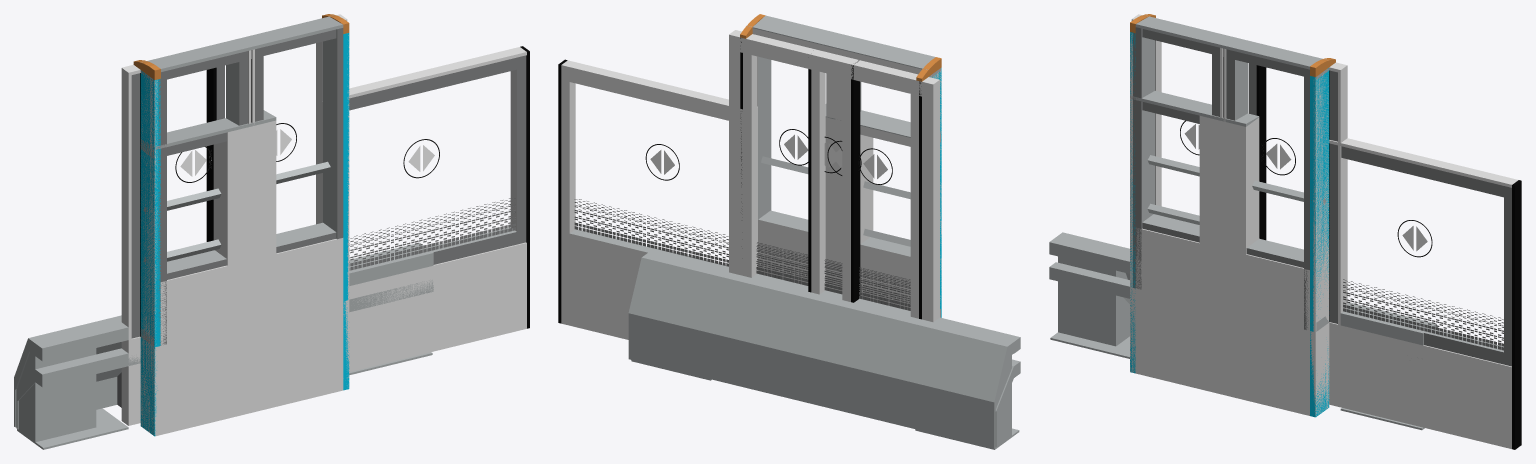
Rendered from mtr_screendoor_bg_2.obj.
3 renders of one model, left to right at view 1: azimuth 30°, elevation 25°; view 2: azimuth 150°, elevation 25°; view 3: azimuth 330°, elevation 25°, orthographic. The views are drawn at different scales.
Visible parts, largest first — view 1: cube, g_rd, g_ld, g_lg, l_c, l_gse, a_base_l, g_rgn, g_ldg, g_lgn, r_gse, g_rg (+9 smaller); view 2: a_r, cube, a_l, l_c, a_s_l, r_s, g_rd, l_s, g_ld, r_c, a_s_r, g_lg (+10 smaller); view 3: cube, g_rd, g_ld, g_lg, g_ldg, g_rgn, l_gse, r_s, a_base_l, r_gse, g_lgn, g_rdg (+7 smaller).
Part boxes in pixels (x1,y1,x2,y2): cube: (140, 46, 529, 435); g_rd: (238, 16, 349, 412); g_ld: (140, 39, 251, 436); g_lg: (140, 39, 251, 436); l_c: (121, 41, 322, 425); l_gse: (213, 118, 251, 418); a_base_l: (17, 348, 128, 449); g_rgn: (251, 28, 349, 411); g_ldg: (154, 50, 251, 435); g_lgn: (140, 61, 234, 346); r_gse: (251, 110, 276, 408); g_rg: (239, 15, 349, 412); a_r: (628, 248, 918, 425); cube: (558, 59, 941, 339); a_l: (721, 275, 1020, 448); l_c: (740, 34, 939, 321); a_s_l: (789, 292, 1011, 447); r_s: (729, 30, 860, 302); g_rd: (752, 16, 849, 289); l_s: (808, 55, 936, 294); g_ld: (837, 36, 941, 317); r_c: (729, 30, 921, 319); a_s_r: (628, 253, 852, 380); g_lg: (837, 36, 940, 317); cube: (1130, 91, 1521, 449); g_rd: (1223, 37, 1329, 417); g_ld: (1130, 17, 1234, 394); g_lg: (1130, 15, 1235, 393); g_ldg: (1130, 29, 1223, 394); g_rgn: (1223, 50, 1329, 399); l_gse: (1199, 106, 1222, 394); r_s: (1261, 62, 1347, 325); a_base_l: (1050, 256, 1129, 358); r_gse: (1223, 113, 1259, 376); g_lgn: (1130, 27, 1223, 289); g_rdg: (1223, 39, 1329, 413).
Size of the model in its own units: 2.51 by 1.8 by 0.3753.
Materials: 8 (8 with a texture image).
